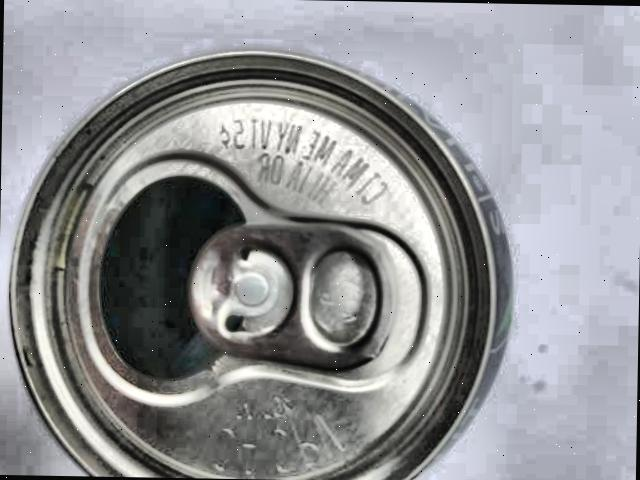Bottles: (0, 32, 538, 480)
